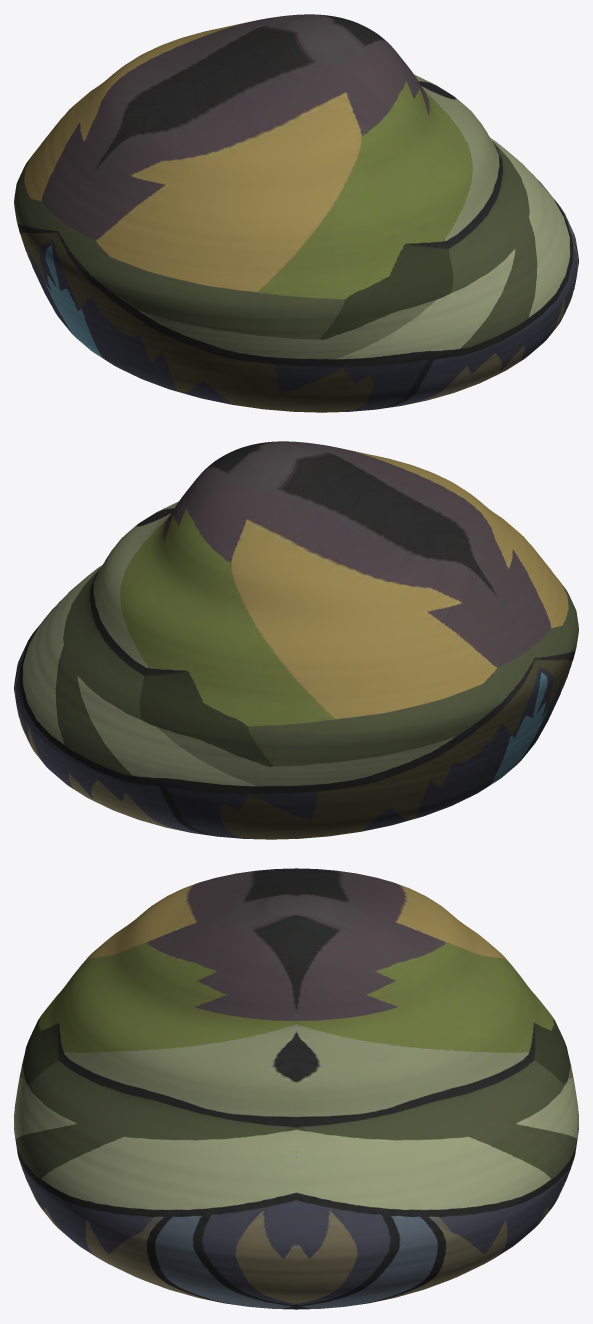
The model's file is mossy_boulder.glb.
3 views of the same model, one above another, from view 1: azimuth 30°, elevation 25°; view 2: azimuth 150°, elevation 25°; view 3: azimuth 270°, elevation 25° (orthographic). The views are drawn at different scales.
Visible parts, largest first — view 1: mossy_boulder; view 2: mossy_boulder; view 3: mossy_boulder.
Part boxes in pixels (x1=…): mossy_boulder: x1=14, y1=14, x2=578, y2=412; mossy_boulder: x1=14, y1=441, x2=578, y2=839; mossy_boulder: x1=14, y1=868, x2=578, y2=1309.
Bounding box in the file's own units: 0.9987 × 0.6704 × 0.9597.
1 material, 1 textured.
